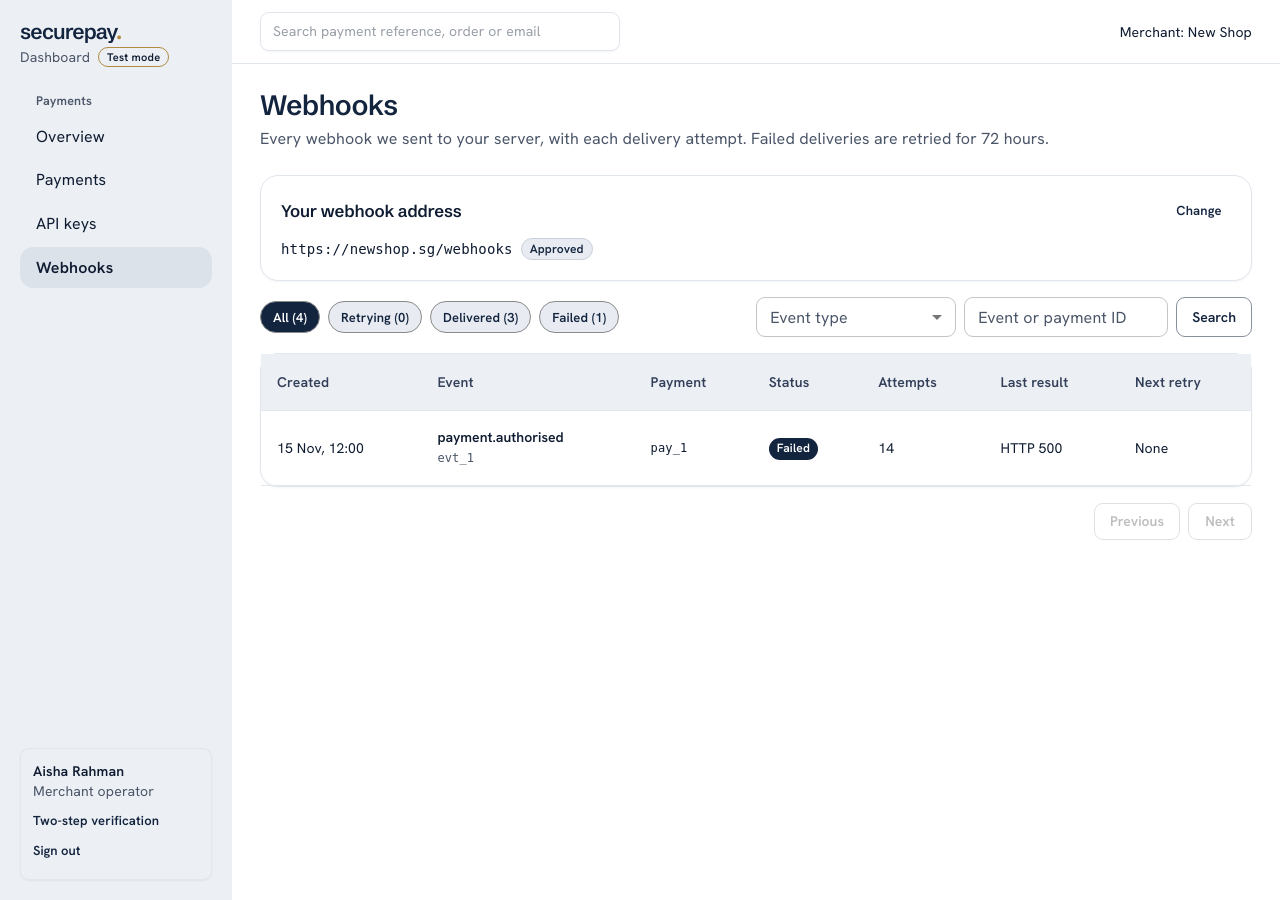
Test: Webhook log › explains why an event that is still retrying cannot be resent
Step 1. Click the button with aria-label "Open payment.authorised evt_1" → (501, 438), box x1=437 y1=428 x2=564 y2=448
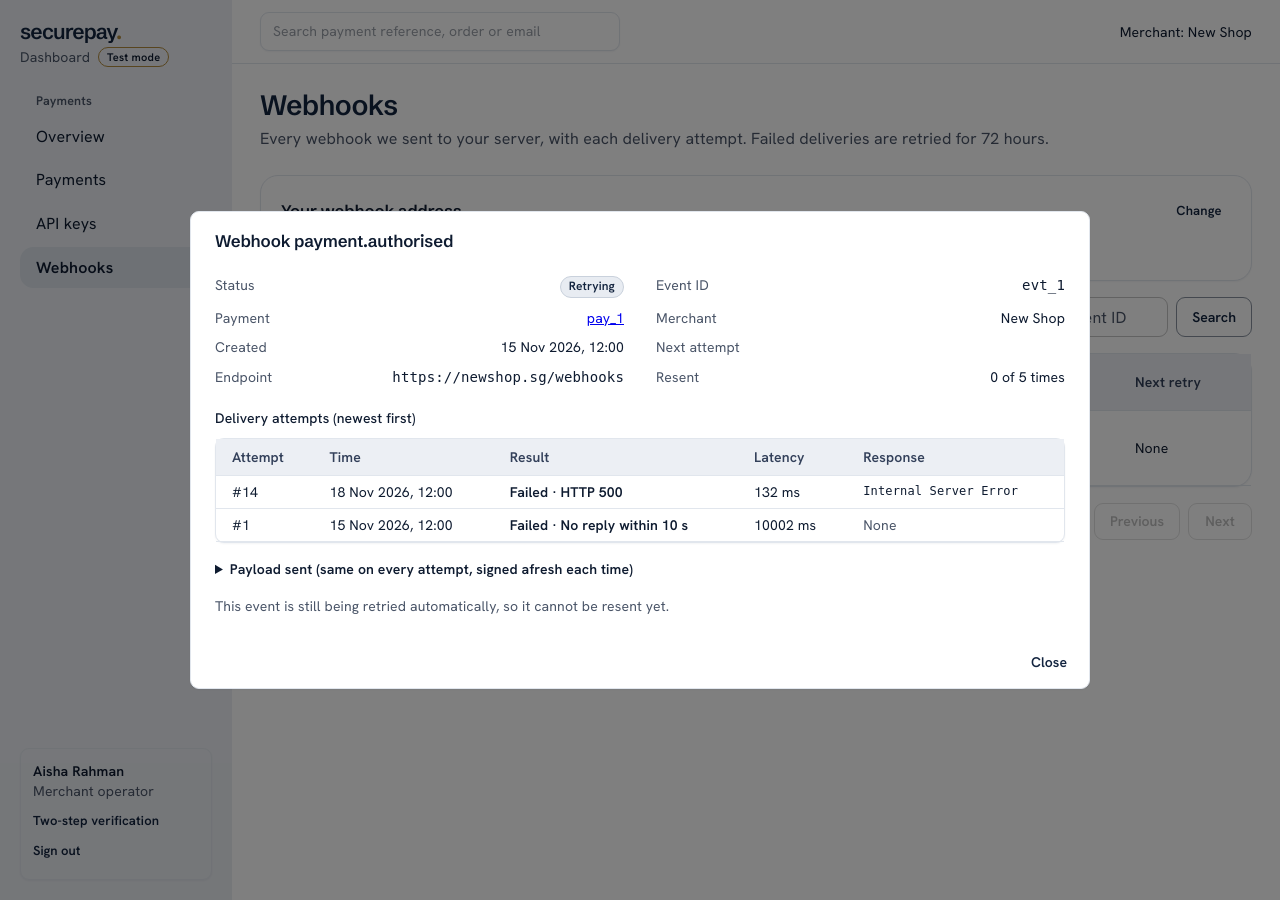
Now the text "still being retried automatically" is shown, box x1=215 y1=597 x2=669 y2=615
